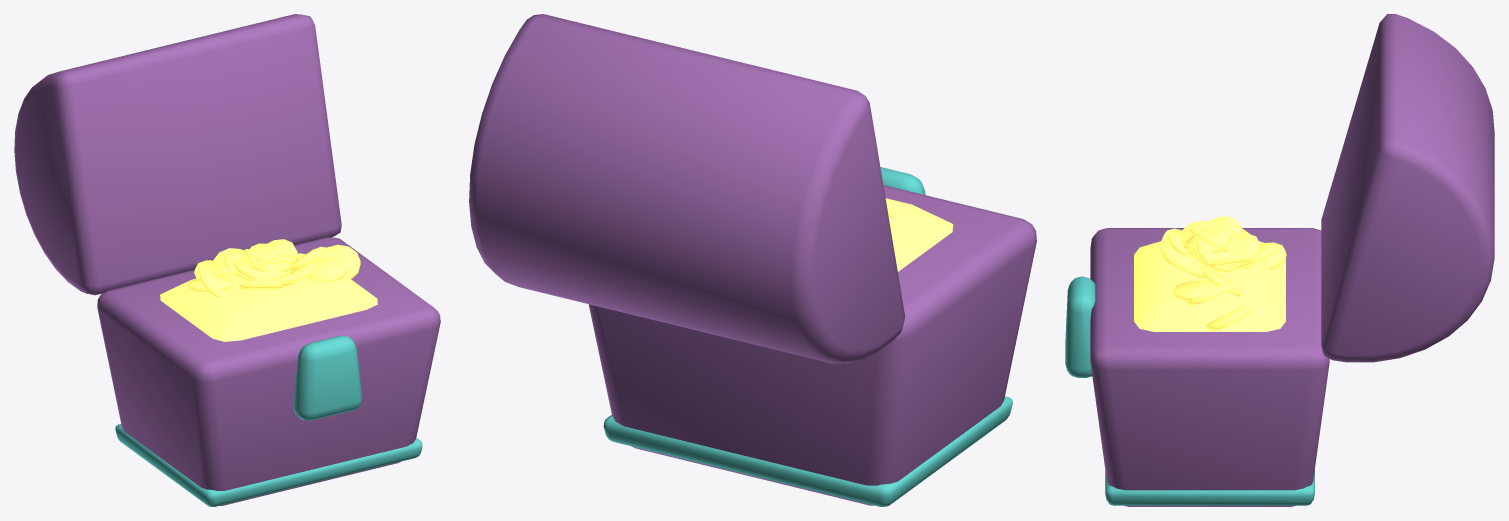
Rendered from chest_cartoon.glb.
The picture shows the model from 3 angles, left to right: view 1: azimuth 30°, elevation 25°; view 2: azimuth 150°, elevation 25°; view 3: azimuth 270°, elevation 25°; orthographic projection. The views are drawn at different scales.
Parts seen in each view (by area): view 1: Cart_Lid, Cart_Body, Cart_Treasure, Cart_Metal; view 2: Cart_Lid, Cart_Body, Cart_Metal, Cart_Treasure; view 3: Cart_Lid, Cart_Body, Cart_Treasure, Cart_Metal.
Part boxes in pixels (x1,y1,x2,y2): Cart_Lid: (14, 14, 341, 295); Cart_Body: (97, 237, 440, 505); Cart_Treasure: (160, 239, 377, 341); Cart_Metal: (115, 335, 422, 506); Cart_Lid: (469, 14, 905, 363); Cart_Body: (588, 185, 1036, 505); Cart_Metal: (603, 167, 1012, 506); Cart_Treasure: (885, 198, 953, 271); Cart_Lid: (1321, 14, 1494, 362); Cart_Body: (1090, 228, 1329, 506); Cart_Treasure: (1134, 216, 1286, 331); Cart_Metal: (1065, 276, 1314, 505).
Size of the model in its own units: 2.76 by 3.58 by 3.66.
